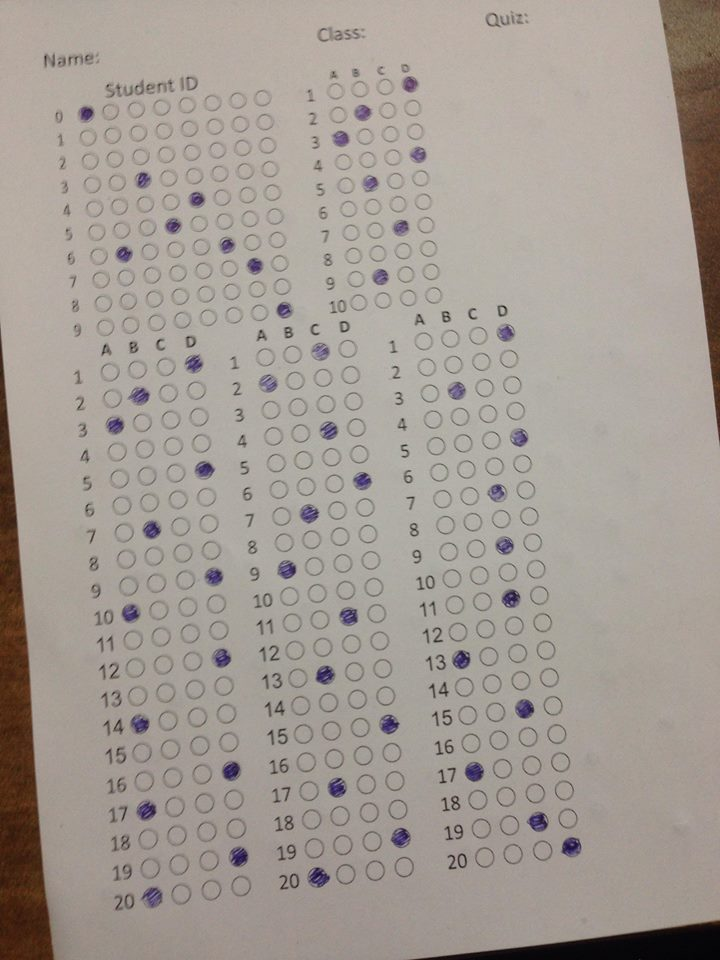not-c: (360, 831, 383, 854), (201, 878, 223, 902), (192, 763, 214, 786), (224, 818, 247, 840), (278, 584, 300, 607), (124, 656, 146, 678), (290, 694, 312, 716), (524, 558, 546, 580), (453, 675, 475, 697), (213, 674, 234, 697), (289, 423, 312, 444), (298, 779, 319, 802), (334, 864, 357, 885), (542, 695, 563, 718), (531, 839, 552, 862), (353, 497, 377, 517), (475, 844, 495, 868), (223, 789, 244, 811), (341, 364, 362, 386), (345, 417, 367, 438), (349, 443, 370, 465), (357, 523, 378, 545), (313, 636, 334, 658), (342, 632, 363, 654), (369, 630, 390, 652), (372, 658, 394, 679), (347, 689, 369, 710), (328, 806, 350, 827), (393, 857, 415, 878), (521, 532, 543, 553), (440, 568, 462, 589), (531, 613, 553, 634), (506, 642, 528, 663), (485, 702, 507, 723), (195, 488, 218, 508), (152, 656, 175, 676), (216, 703, 236, 726), (166, 823, 186, 846), (418, 384, 441, 404), (505, 402, 528, 422), (481, 674, 504, 694), (183, 680, 207, 699), (195, 791, 214, 815), (103, 387, 124, 408), (139, 492, 160, 513), (127, 685, 148, 706), (197, 821, 218, 842), (172, 885, 193, 906), (301, 531, 322, 552), (309, 609, 330, 630), (367, 604, 388, 625), (375, 686, 396, 707), (303, 837, 324, 858), (474, 378, 495, 399), (429, 462, 450, 483), (475, 619, 496, 640), (538, 668, 559, 689), (557, 809, 578, 830), (238, 208, 260, 228), (160, 411, 182, 431), (171, 516, 191, 538), (147, 572, 167, 594), (150, 628, 172, 648), (200, 851, 220, 873), (231, 875, 251, 897), (283, 640, 305, 660), (287, 668, 309, 688), (319, 692, 339, 714), (295, 751, 315, 773), (324, 748, 344, 770), (356, 773, 376, 795), (358, 802, 380, 822), (388, 798, 408, 820), (471, 351, 493, 371), (451, 433, 473, 453), (511, 453, 533, 473), (479, 646, 499, 668), (456, 705, 478, 725), (492, 758, 514, 778), (161, 768, 184, 787), (365, 859, 384, 882), (504, 843, 523, 866), (99, 362, 120, 382), (114, 523, 135, 543), (118, 576, 138, 597), (175, 571, 196, 591), (148, 599, 168, 620), (131, 742, 152, 762), (191, 736, 211, 757), (219, 733, 239, 754), (134, 771, 155, 791), (262, 398, 282, 419), (288, 397, 309, 417), (262, 427, 283, 447), (294, 450, 314, 471), (321, 447, 342, 467), (345, 662, 365, 683), (292, 724, 313, 744), (350, 718, 371, 738), (434, 515, 454, 536), (438, 541, 458, 562), (528, 585, 548, 606), (510, 670, 531, 690), (522, 755, 543, 775), (551, 751, 571, 772), (554, 780, 575, 800), (501, 814, 521, 835), (134, 196, 156, 215), (201, 542, 223, 561), (139, 827, 158, 849), (170, 854, 189, 876), (266, 454, 288, 473), (273, 533, 295, 552), (303, 557, 325, 576), (333, 834, 352, 856), (491, 508, 510, 530), (474, 591, 493, 613), (534, 641, 556, 660), (121, 632, 144, 650), (266, 207, 286, 227), (243, 233, 263, 253), (143, 288, 163, 308), (199, 514, 219, 534), (183, 652, 203, 672), (141, 858, 161, 878), (327, 500, 347, 520), (361, 551, 381, 571), (336, 581, 356, 601), (353, 746, 373, 766), (383, 743, 403, 763), (417, 358, 437, 378), (469, 566, 489, 586), (443, 595, 463, 615), (471, 818, 491, 838), (154, 122, 173, 143), (129, 122, 148, 143), (102, 125, 121, 146), (79, 125, 98, 146), (254, 88, 273, 109), (229, 89, 248, 110), (204, 92, 223, 113), (179, 93, 198, 114), (151, 97, 170, 118), (127, 99, 146, 120), (218, 259, 239, 278), (169, 288, 190, 307), (189, 408, 210, 427), (107, 443, 128, 462), (155, 684, 174, 705), (188, 707, 207, 728), (344, 391, 363, 412), (268, 479, 289, 498), (364, 578, 385, 597), (413, 332, 434, 351), (468, 326, 489, 345), (501, 349, 520, 370), (478, 405, 499, 424), (463, 512, 482, 533), (518, 508, 539, 527), (466, 538, 485, 559), (496, 787, 515, 808), (527, 782, 546, 803), (89, 270, 111, 288), (159, 710, 177, 732), (301, 810, 323, 828), (205, 116, 224, 136), (214, 212, 233, 232), (88, 246, 107, 266), (138, 243, 158, 262), (196, 285, 215, 305), (273, 277, 292, 297), (159, 384, 178, 404), (134, 440, 154, 459), (163, 437, 183, 456), (191, 434, 211, 453), (166, 464, 186, 483), (168, 490, 188, 509), (116, 550, 136, 569), (173, 544, 193, 563), (178, 597, 197, 617), (208, 594, 228, 613), (166, 798, 185, 818), (404, 122, 424, 141), (318, 395, 338, 414), (295, 477, 315, 496), (273, 506, 293, 525), (307, 584, 327, 603), (322, 721, 342, 740), (386, 772, 405, 792), (439, 329, 459, 348), (456, 460, 475, 480), (485, 457, 505, 476), (432, 490, 451, 510), (497, 564, 517, 583), (468, 790, 487, 810), (191, 239, 212, 257), (208, 623, 229, 641), (447, 623, 468, 641), (158, 169, 180, 186), (260, 160, 279, 179), (138, 218, 157, 237), (134, 413, 153, 432), (161, 740, 180, 759), (363, 198, 382, 217), (342, 223, 361, 242), (325, 475, 344, 494), (461, 487, 480, 506), (519, 728, 538, 747), (104, 150, 124, 168), (182, 142, 200, 162), (83, 174, 101, 194), (185, 165, 203, 185), (87, 223, 107, 241), (120, 291, 138, 311), (128, 362, 148, 380), (157, 357, 175, 377), (185, 381, 205, 399), (137, 467, 157, 485), (326, 82, 346, 100), (355, 126, 375, 144), (381, 125, 401, 143), (334, 153, 354, 171), (338, 200, 358, 218), (338, 339, 358, 357), (331, 528, 349, 548), (333, 555, 353, 573), (283, 614, 303, 632), (451, 408, 471, 426), (482, 431, 500, 451), (516, 481, 536, 499), (462, 733, 480, 753), (547, 725, 567, 743), (377, 76, 394, 97), (282, 346, 303, 363), (422, 412, 443, 429), (234, 163, 256, 179), (426, 286, 442, 308), (231, 115, 249, 134), (81, 151, 99, 170), (168, 240, 187, 258), (118, 268, 137, 286), (144, 267, 163, 285), (249, 280, 268, 298), (173, 312, 192, 330), (110, 469, 128, 488), (145, 548, 164, 566), (378, 101, 396, 120), (404, 97, 422, 116), (336, 176, 354, 195), (388, 172, 406, 191), (345, 246, 363, 265), (419, 240, 438, 258), (347, 270, 366, 288), (502, 377, 520, 396), (506, 618, 525, 636), (256, 113, 276, 130), (328, 106, 348, 123), (423, 262, 440, 282), (399, 289, 416, 309), (313, 369, 333, 386), (489, 732, 509, 749), (348, 294, 369, 310), (233, 140, 251, 158), (263, 184, 281, 202), (113, 222, 131, 240), (224, 283, 242, 301), (182, 626, 200, 644), (369, 245, 387, 263), (208, 142, 227, 159), (108, 175, 127, 192), (211, 164, 228, 183), (86, 200, 105, 217), (214, 189, 233, 206), (188, 215, 207, 232), (269, 231, 288, 248), (122, 317, 141, 334), (148, 315, 167, 332), (384, 149, 403, 166), (444, 357, 463, 374), (103, 101, 119, 121), (130, 149, 150, 165), (181, 120, 198, 138), (113, 497, 131, 514), (360, 150, 377, 168), (413, 170, 430, 188), (417, 217, 435, 234), (396, 243, 413, 261), (257, 349, 275, 366), (238, 187, 257, 203), (195, 263, 214, 279), (368, 221, 384, 240), (427, 438, 446, 454), (259, 138, 276, 155), (95, 296, 112, 313), (398, 266, 415, 283), (111, 199, 127, 217), (98, 318, 114, 336), (225, 307, 243, 323), (287, 373, 305, 389), (170, 266, 187, 282), (272, 254, 288, 271), (414, 193, 431, 209), (374, 293, 391, 309), (350, 81, 369, 95), (201, 309, 217, 325), (158, 146, 175, 161), (161, 195, 178, 210), (389, 196, 406, 211), (252, 304, 267, 320)
taken-c: (324, 777, 349, 800), (513, 697, 536, 721), (462, 760, 486, 783), (304, 864, 328, 886), (297, 501, 319, 524), (526, 810, 549, 832), (140, 885, 162, 907), (500, 587, 521, 610), (183, 352, 203, 376), (127, 385, 149, 406), (194, 460, 216, 481), (129, 713, 150, 735), (135, 799, 156, 821), (227, 845, 249, 866), (560, 836, 582, 857), (104, 414, 125, 435), (338, 606, 359, 627), (276, 558, 297, 579), (450, 649, 471, 670), (315, 663, 335, 685), (508, 425, 528, 447), (211, 647, 232, 667), (378, 714, 399, 734), (351, 470, 372, 490), (309, 341, 330, 361), (494, 322, 515, 342), (446, 379, 466, 400), (494, 534, 514, 555), (317, 420, 339, 439), (203, 566, 223, 586), (390, 827, 410, 847), (257, 373, 277, 393), (407, 144, 427, 164), (76, 102, 95, 123), (221, 759, 240, 780), (330, 129, 351, 148), (486, 482, 507, 501), (132, 169, 151, 189), (141, 519, 161, 538), (352, 103, 372, 122), (370, 267, 390, 285), (391, 219, 411, 237), (164, 216, 182, 235), (121, 602, 139, 621), (360, 174, 378, 193), (401, 74, 419, 93), (187, 189, 205, 207), (114, 244, 132, 262), (217, 236, 235, 254), (245, 257, 264, 274), (275, 301, 292, 318)
